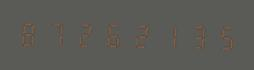eight: (17, 18, 43, 48)
five: (206, 21, 232, 51)
one: (152, 20, 178, 50)
seven: (44, 18, 70, 49)
six: (98, 19, 124, 49)
three: (179, 20, 205, 51)
two: (125, 19, 151, 50), (71, 19, 97, 49)
